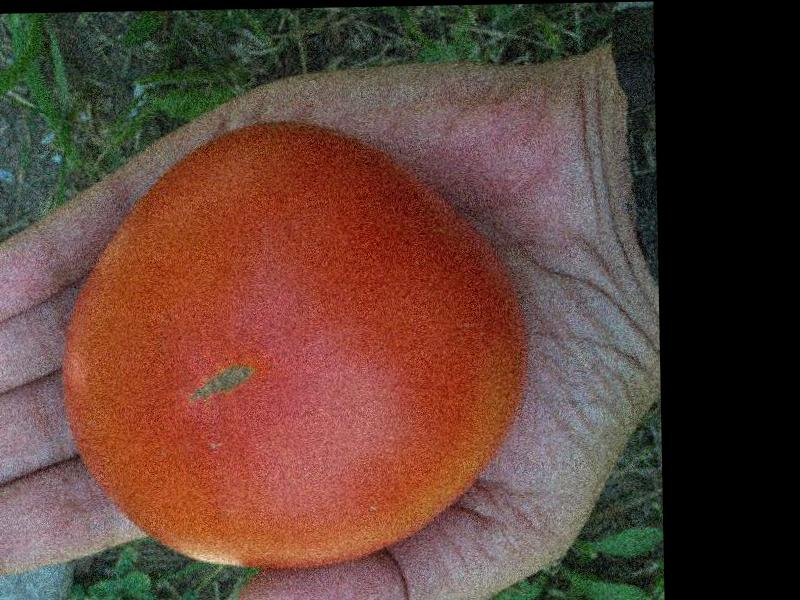Tomato: (59, 117, 525, 572)
